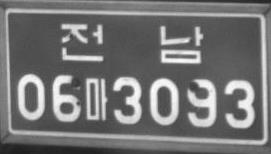0: (149, 76, 179, 126), (17, 72, 46, 121)
3: (224, 79, 255, 129), (112, 76, 142, 124)
6: (51, 73, 82, 122)
9: (187, 77, 217, 128)
마: (84, 77, 108, 121)
전남_D: (61, 22, 203, 64)
